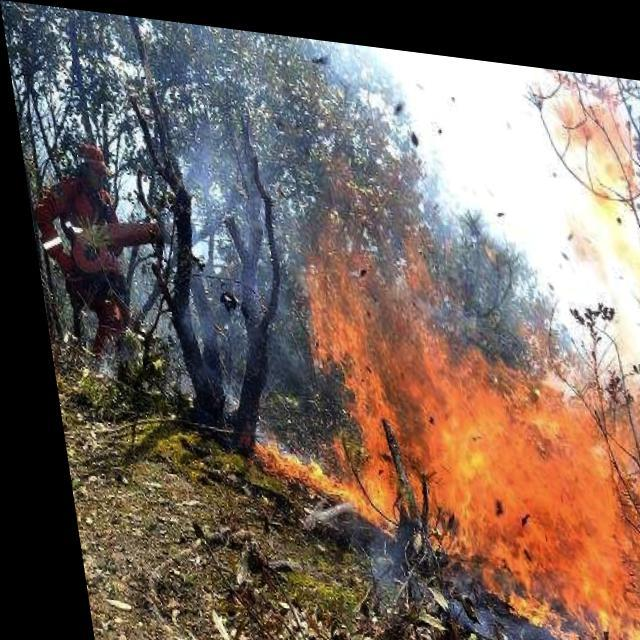Fire: (260, 170, 639, 639)
